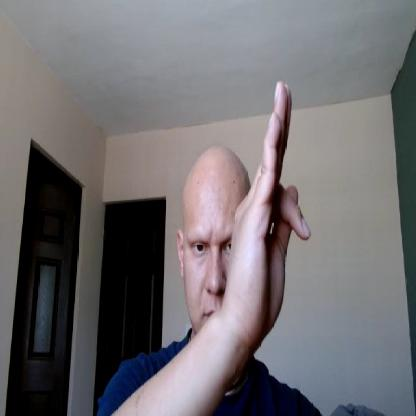F: (225, 79, 312, 348)
